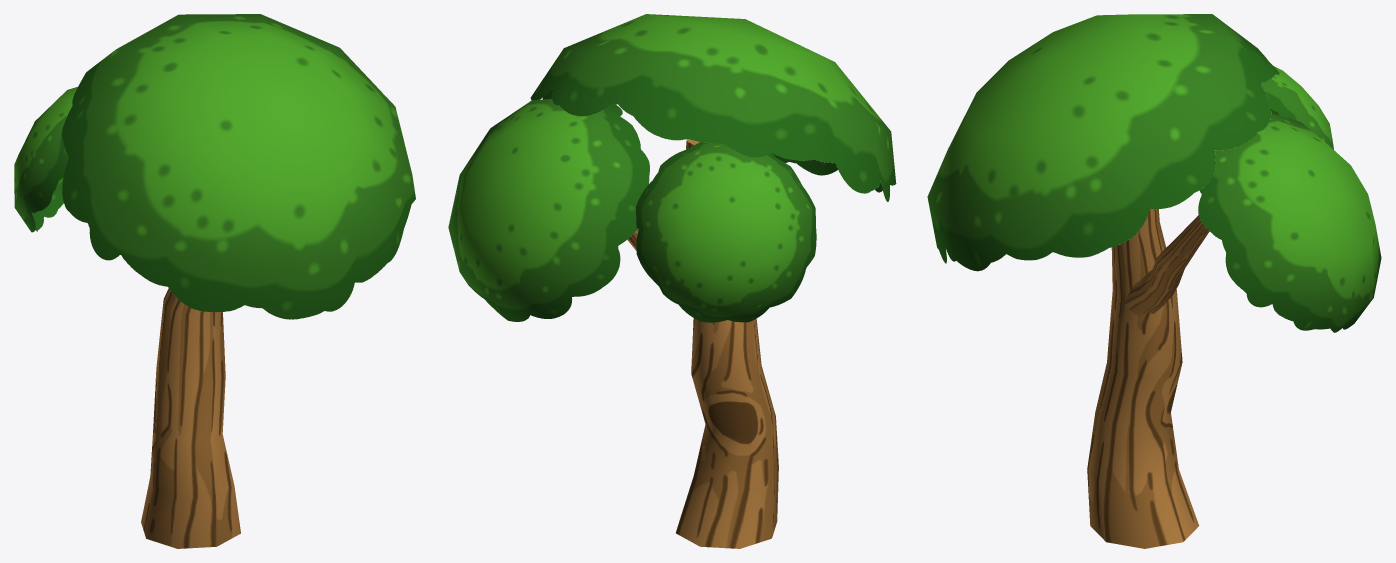
The picture shows the model from 3 angles, left to right: view 1: azimuth 30°, elevation 25°; view 2: azimuth 150°, elevation 25°; view 3: azimuth 270°, elevation 25°; orthographic projection. The views are drawn at different scales.
Visible parts, largest first — view 1: Cylinder001, Cylinder005, Cylinder011; view 2: Cylinder001, Cylinder010, Cylinder011, Cylinder005; view 3: Cylinder001, Cylinder010, Cylinder005, Cylinder006, Cylinder011.
Part boxes in pixels (x1,y1,x2,y2): Cylinder001: [61, 14, 415, 319]; Cylinder005: [141, 288, 240, 548]; Cylinder011: [14, 87, 77, 232]; Cylinder001: [530, 14, 896, 201]; Cylinder010: [448, 99, 649, 321]; Cylinder011: [636, 142, 816, 322]; Cylinder005: [676, 139, 778, 548]; Cylinder001: [927, 14, 1280, 271]; Cylinder010: [1198, 113, 1381, 332]; Cylinder005: [1087, 208, 1199, 548]; Cylinder006: [1124, 215, 1209, 315]; Cylinder011: [1261, 66, 1333, 149].
Size of the model in its own units: 141 by 193 by 155.
Materials: 1 (1 with a texture image).
